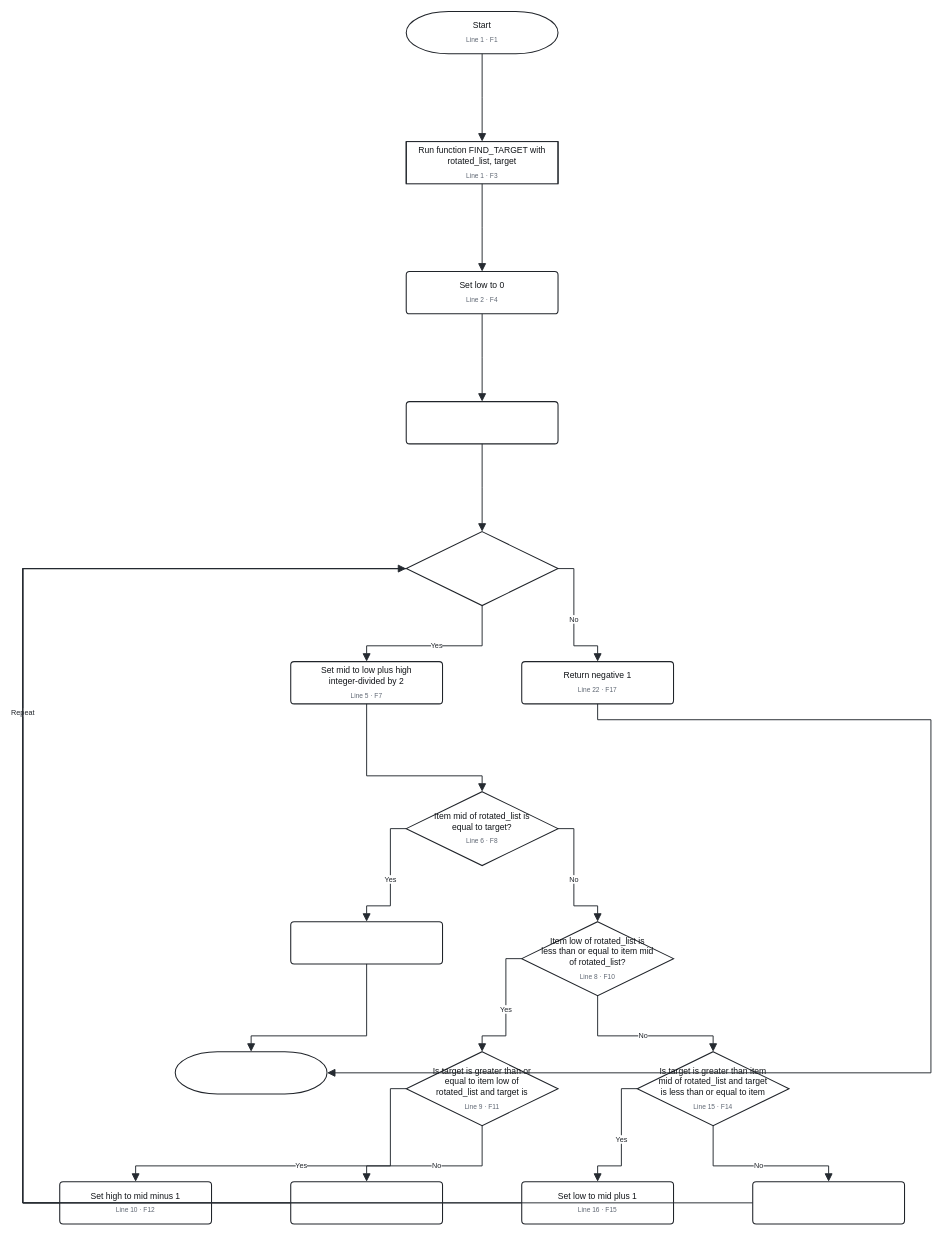
Image size: 950x1236. Some labels were removed from this diagram. Each missing label, with the box of its shape:
End Line 1 · F2: (174, 1051, 327, 1094)
Low is less than or equal to high? Line 4 · F6: (405, 531, 558, 606)
Return mid Line 7 · F9: (290, 921, 443, 964)
Set high to mid minus 1 Line 18 · F16: (752, 1181, 905, 1224)
Set high to the length of rotated_list minus 1 Line 3 · F5: (405, 401, 558, 444)
Set low to mid plus 1 Line 12 · F13: (290, 1181, 443, 1224)
